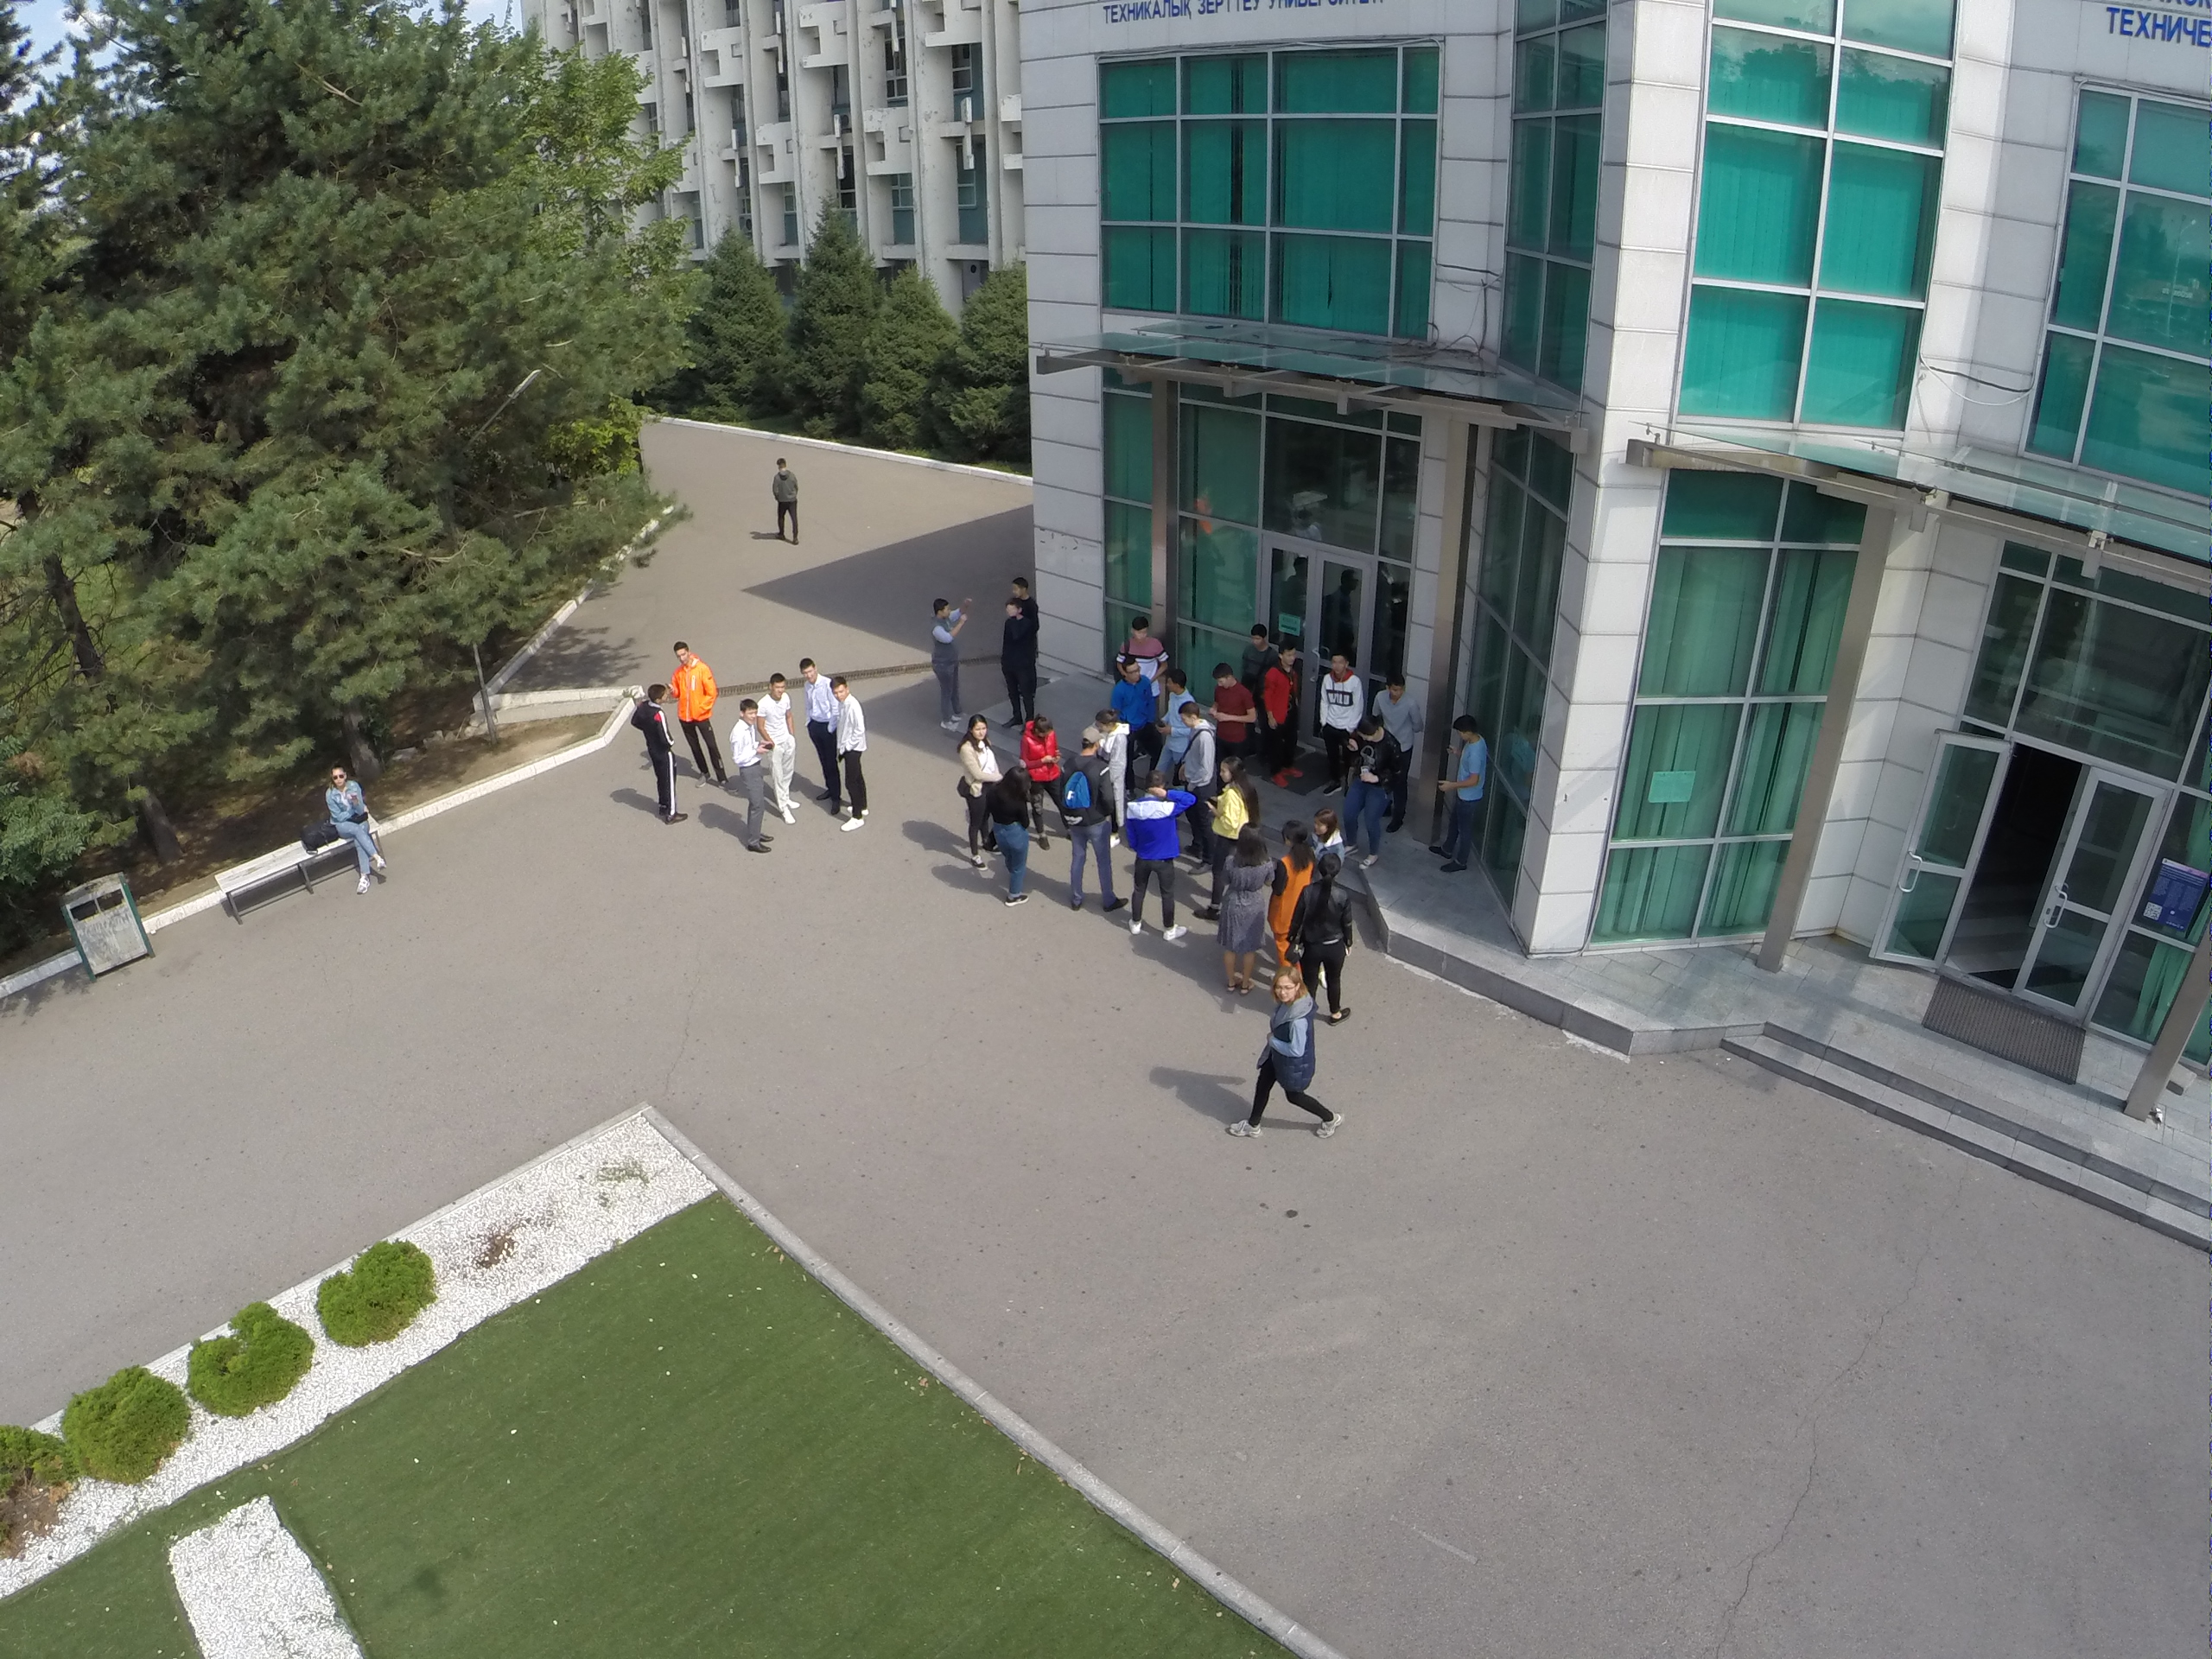person: (1239, 963, 1342, 1154), (1112, 771, 1192, 950), (1059, 730, 1126, 915), (1298, 857, 1356, 1039), (1427, 713, 1489, 876), (326, 756, 393, 903), (668, 624, 726, 785), (629, 681, 689, 834), (1223, 811, 1272, 995), (829, 672, 877, 841), (728, 698, 777, 861), (1270, 817, 1319, 974), (1175, 701, 1217, 877), (950, 715, 995, 875), (991, 762, 1038, 911), (1344, 709, 1392, 855), (760, 670, 801, 823), (798, 652, 835, 817), (1269, 647, 1312, 785), (1325, 651, 1365, 791), (1022, 709, 1060, 849), (1000, 600, 1040, 728), (931, 592, 963, 733), (1111, 658, 1156, 746), (1086, 706, 1131, 790), (1374, 671, 1420, 750), (769, 457, 808, 547), (1216, 665, 1252, 753), (1120, 613, 1165, 676), (1235, 620, 1274, 685), (1310, 808, 1344, 853)
